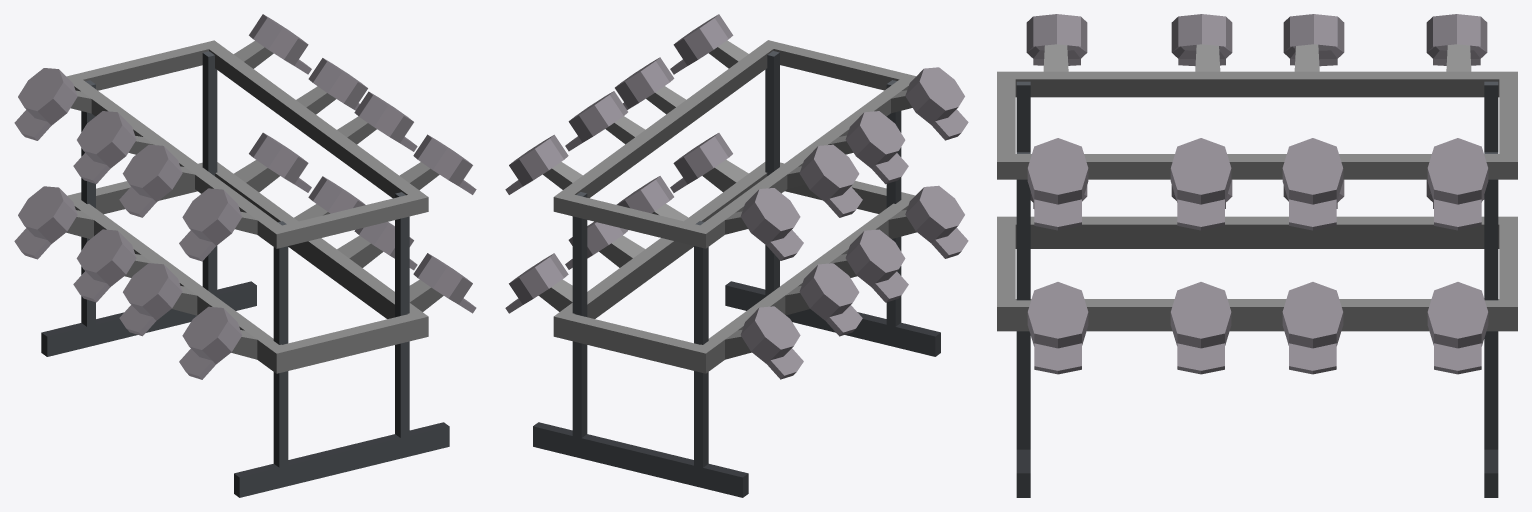
File: HatRack.fbx
3 renders of one model, left to right at view 1: azimuth 30°, elevation 25°; view 2: azimuth 150°, elevation 25°; view 3: azimuth 270°, elevation 25°, orthographic. The views are drawn at different scales.
Visible parts, largest first — view 1: SI_Prop_ClothesRack_03.001; view 2: SI_Prop_ClothesRack_03.001; view 3: SI_Prop_ClothesRack_03.001.
Boxes of the visible parts, <box> form: SI_Prop_ClothesRack_03.001: <box>14,14,476,497</box>; SI_Prop_ClothesRack_03.001: <box>505,14,968,497</box>; SI_Prop_ClothesRack_03.001: <box>997,14,1517,497</box>.
Size of the model in its own units: 2.41 by 2.4 by 3.15.
